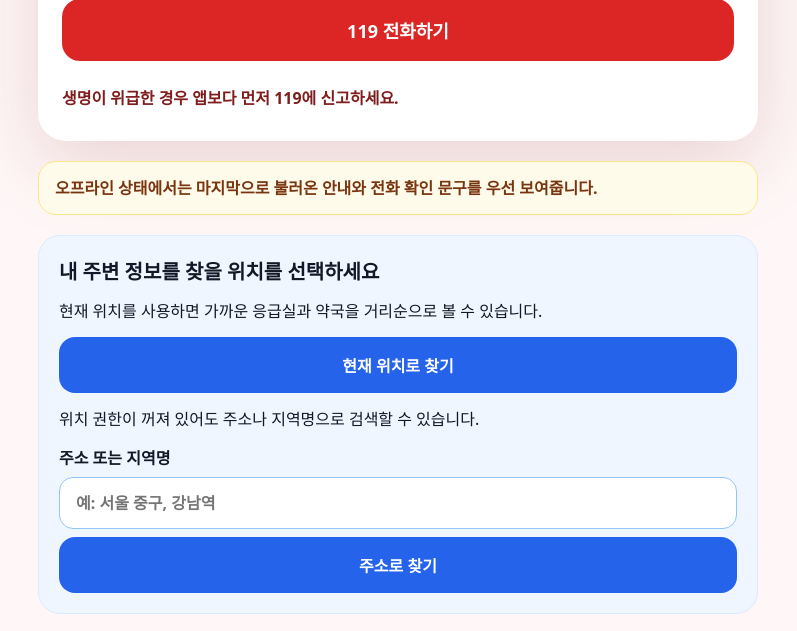
오늘응급 검색 흐름 › shows a visible message when address search has no coordinate candidates
The image size is (797, 631).
(page scrolled)
Type "없는장소" into the search field labelled "주소 또는 지역명" at (398, 503), box left=59, top=477, right=737, bottom=529
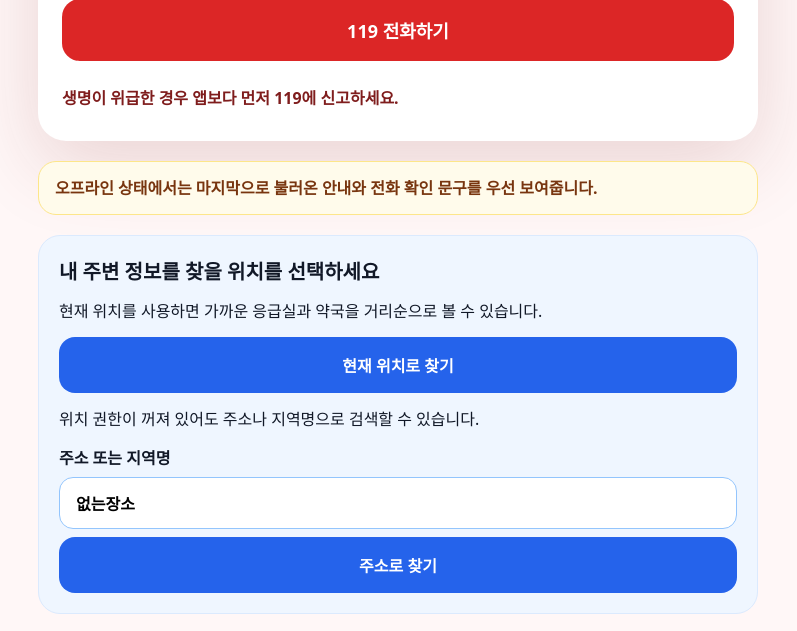
Click the button "주소로 찾기" at (398, 565), box left=59, top=537, right=737, bottom=593
(page scrolled)
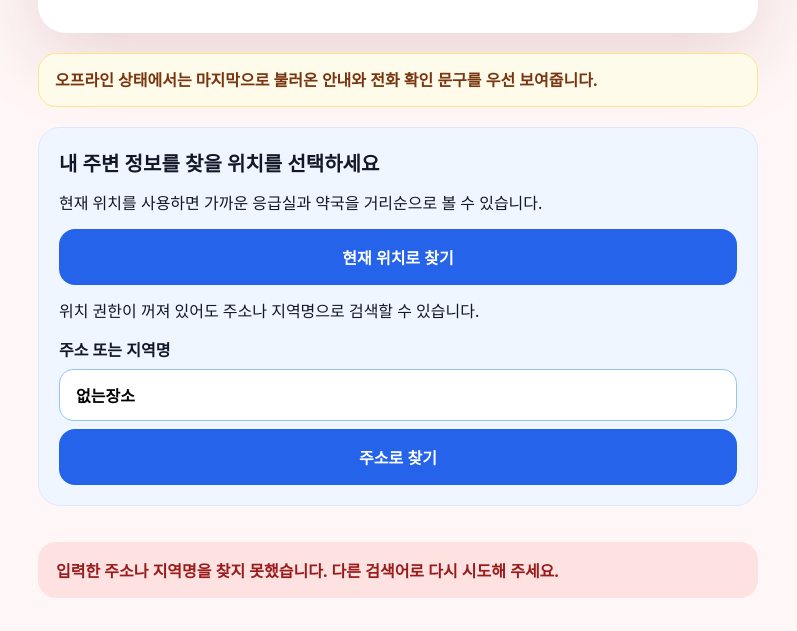
Result: the text "입력한 주소나 지역명을 찾지 못했습니다. 다른 검색어로 다시 시도해 주세요." is shown at left=38, top=542, right=758, bottom=598
